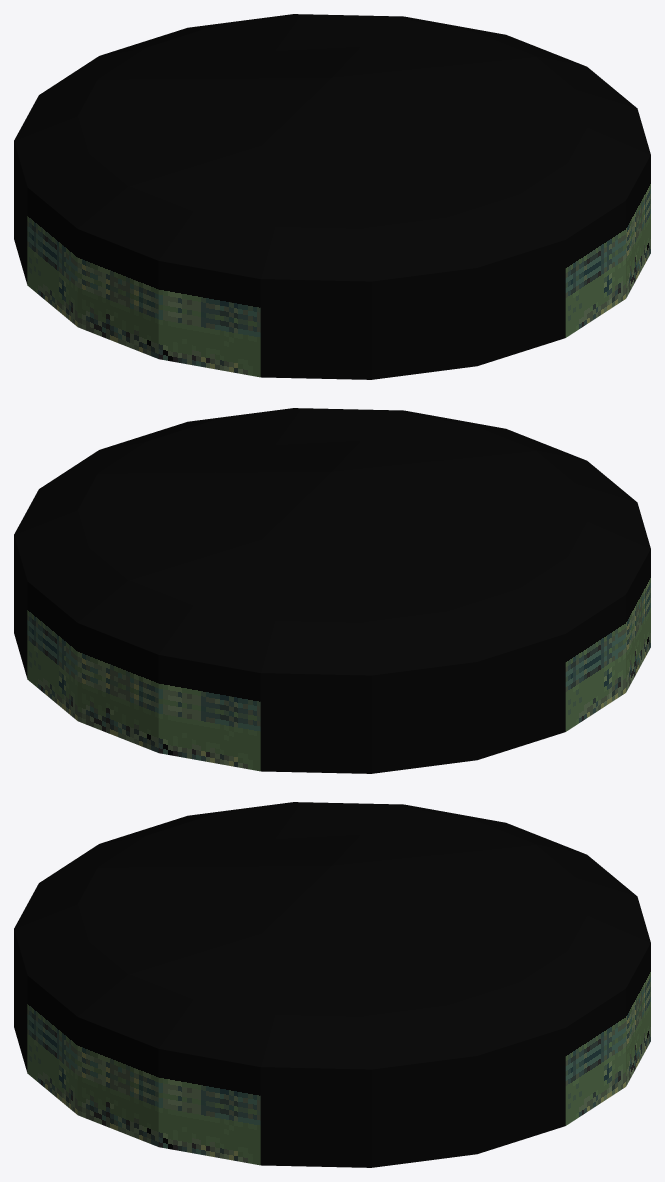
3 renders of one model, top to bottom at view 1: azimuth 30°, elevation 25°; view 2: azimuth 150°, elevation 25°; view 3: azimuth 270°, elevation 25°, orthographic.
Parts seen in each view (by area): view 1: mesh00; view 2: mesh00; view 3: mesh00.
Part boxes in pixels (x1,y1,x2,y2): mesh00: (14, 14, 650, 379); mesh00: (14, 408, 650, 773); mesh00: (14, 802, 650, 1167).
Size of the model in its own units: 105212 by 31805 by 105856.
